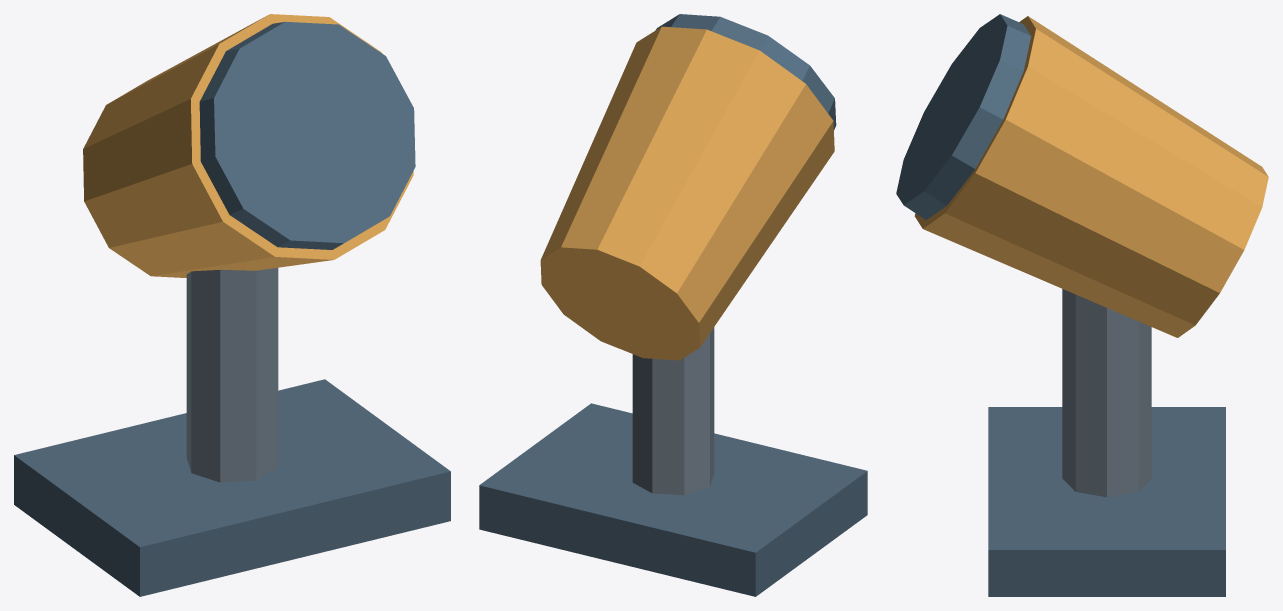
The model's file is snow-cannon.glb.
3 renders of one model, left to right at view 1: azimuth 30°, elevation 25°; view 2: azimuth 150°, elevation 25°; view 3: azimuth 270°, elevation 25°, orthographic. The views are drawn at different scales.
Visible parts, largest first — view 1: snow-cannon; view 2: snow-cannon; view 3: snow-cannon.
Boxes of the visible parts, x1,y1,x2,y2 form: snow-cannon: [14, 14, 450, 596]; snow-cannon: [479, 14, 867, 596]; snow-cannon: [896, 14, 1268, 596].
Size of the model in its own units: 1.44 by 2.34 by 1.58.
